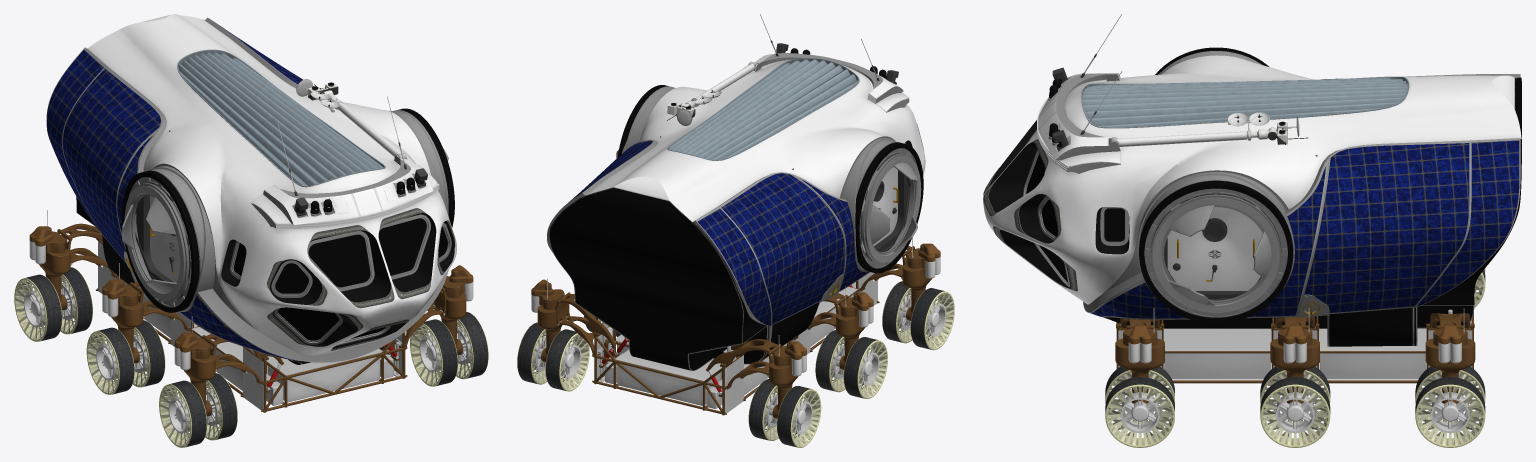
File: sev-4k.glb
3 renders of one model, left to right at view 1: azimuth 30°, elevation 25°; view 2: azimuth 150°, elevation 25°; view 3: azimuth 270°, elevation 25°, orthographic. The views are drawn at different scales.
Visible parts, largest first — view 1: MMSEV; view 2: MMSEV; view 3: MMSEV.
Boxes of the visible parts, x1,y1,x2,y2 form: MMSEV: [14, 14, 488, 447]; MMSEV: [517, 14, 954, 447]; MMSEV: [983, 14, 1521, 447].
Size of the model in its own units: 4.04 by 3.97 by 5.91.
1 material, 1 textured.
